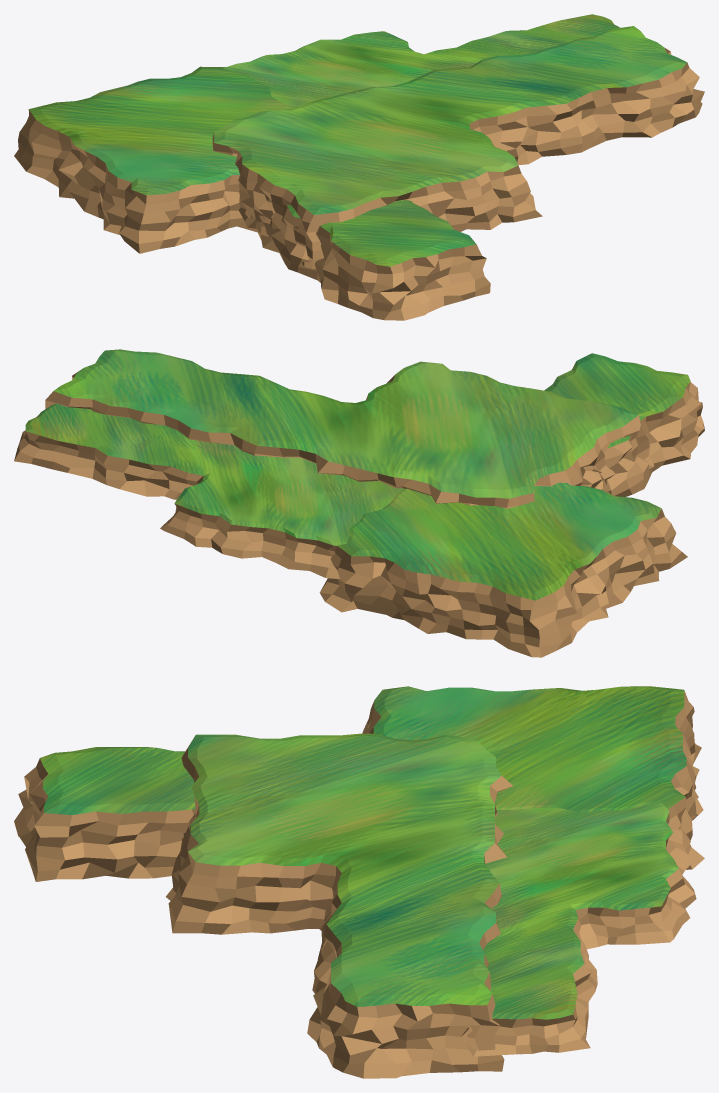
The model's file is Tebing bawah.fbx.
3 renders of one model, top to bottom at view 1: azimuth 30°, elevation 25°; view 2: azimuth 150°, elevation 25°; view 3: azimuth 270°, elevation 25°, orthographic. The views are drawn at different scales.
Visible parts, largest first — view 1: Cube.017; view 2: Cube.017; view 3: Cube.017.
Part boxes in pixels (box(x1,y1,x2,y2)): Cube.017: box(14, 14, 704, 320); Cube.017: box(14, 349, 704, 657); Cube.017: box(14, 686, 704, 1078).
Size of the model in its own units: 5241 by 559 by 4313.
